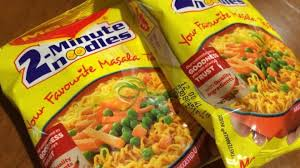maggi: (21, 31, 204, 168)
